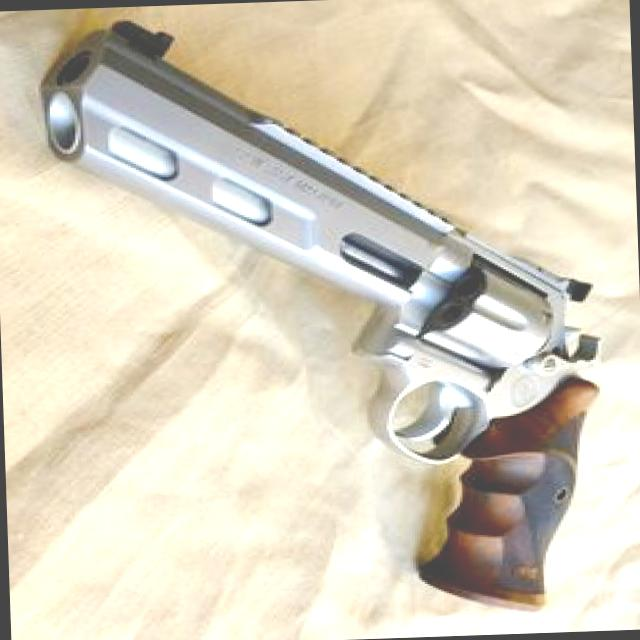revolver: (14, 0, 637, 629)
